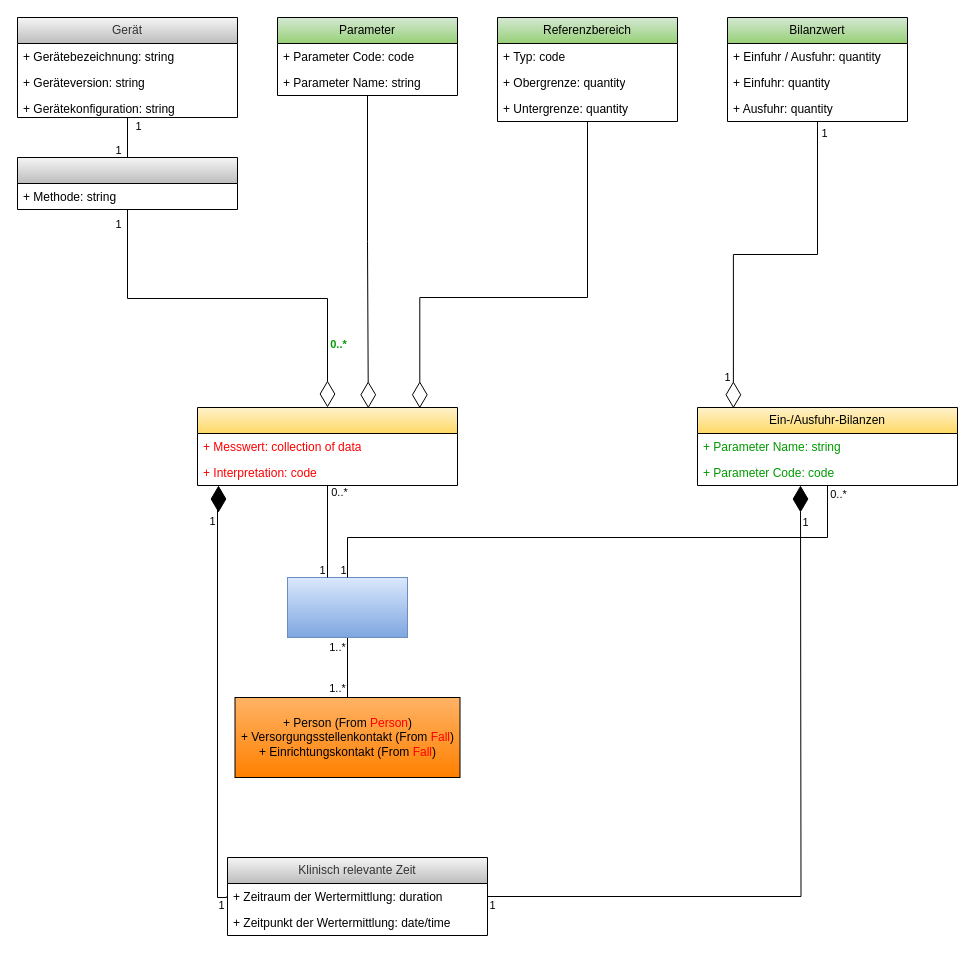
This 975x956 diagram has some shape labels left out. Each missing label, with the box of its shape:
Intensivmedizin: (286, 576, 408, 638)
Messmethode: (16, 156, 238, 210)
Monitoring und Vitaldaten: (196, 406, 458, 486)
